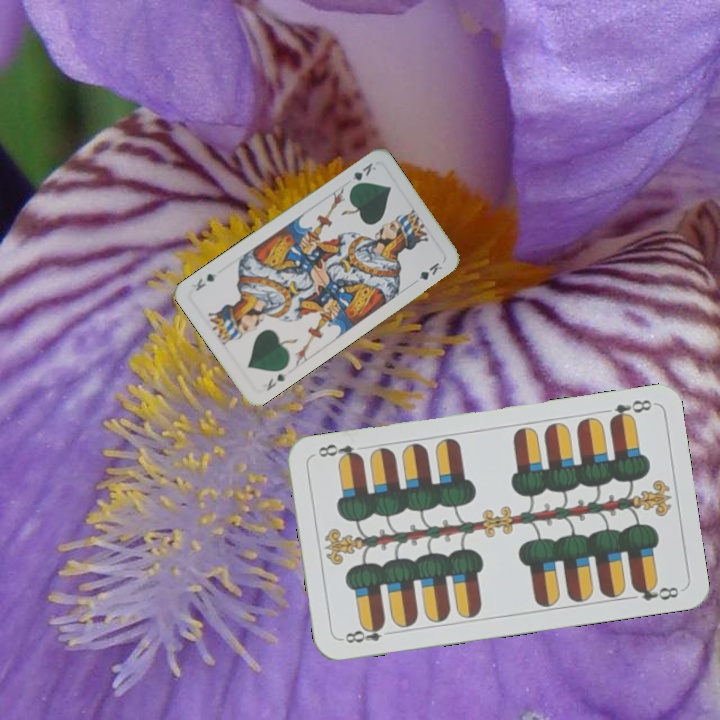E8: (605, 395, 655, 425), (338, 619, 387, 646)
GK: (345, 158, 379, 191), (262, 369, 288, 394)
